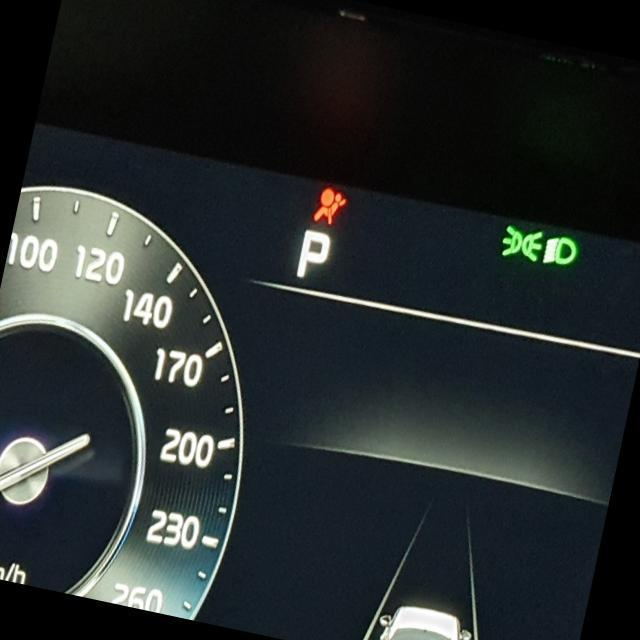Low beam: (540, 232, 578, 270)
SideLamp: (497, 221, 544, 264)
